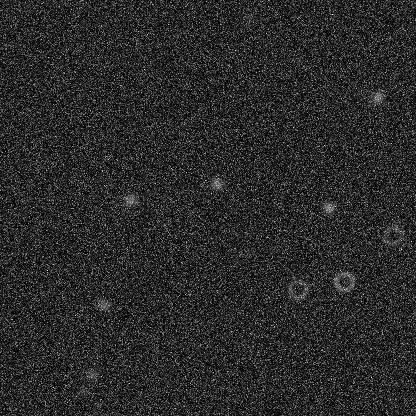Ring: (380, 223, 404, 247), (332, 269, 356, 293), (285, 277, 309, 301)
Spot: (84, 366, 100, 382), (208, 176, 224, 192), (320, 199, 336, 215), (369, 89, 385, 105), (74, 382, 90, 398), (122, 191, 138, 207), (239, 9, 255, 25), (95, 296, 111, 312)
